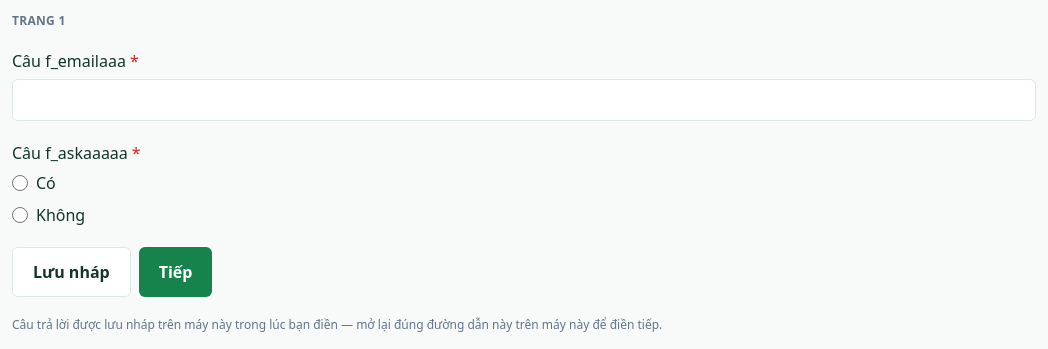
form công khai rẽ nhánh › Không → sang thẳng trang B; Quay lại về trang vừa đi; đổi sang Có → trang A
The image size is (1048, 349).
Type "an@gmail.com" into the field labelled "Câu f_emailaaa*" at (524, 100), box [12,79,1036,121]
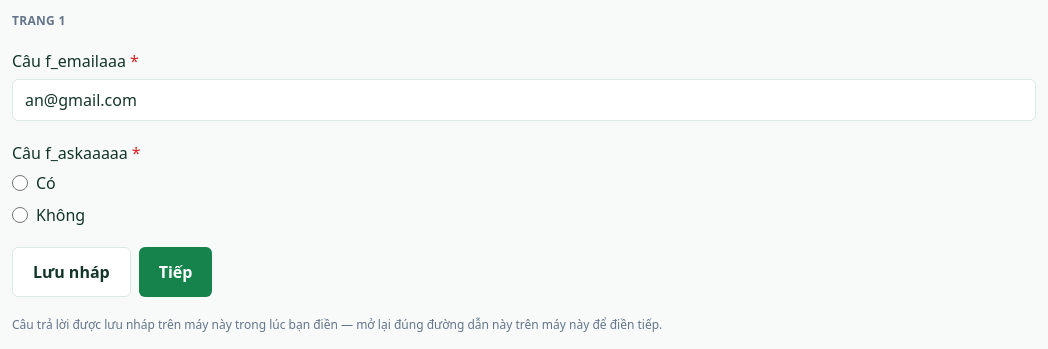
Click the radio button labelled "Không" at (20, 215), box [12,207,28,223]
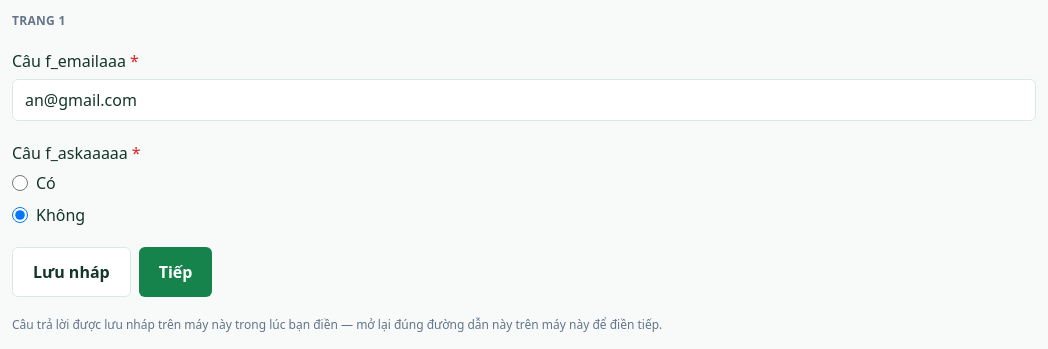
Click the button "Tiếp" at (176, 272), box [139,247,212,297]
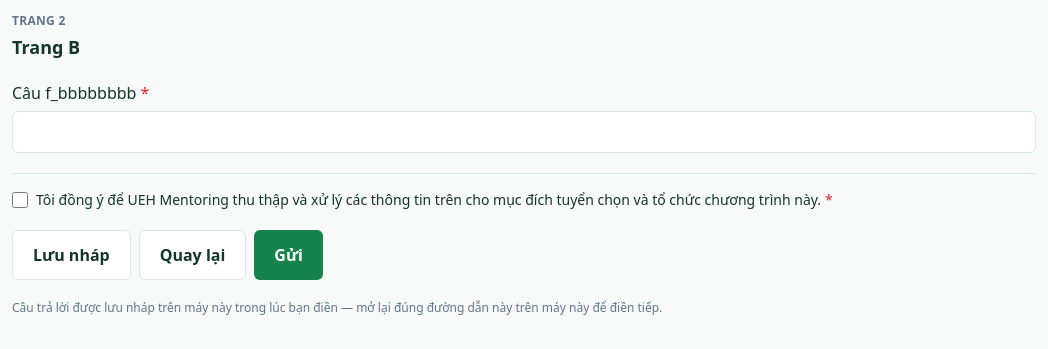
Check: the element showing "Câu f_bbbbbbbb*" is shown, box [12,81,1036,153]
Click the button "Quay lại" at (192, 255), box [139,230,246,280]
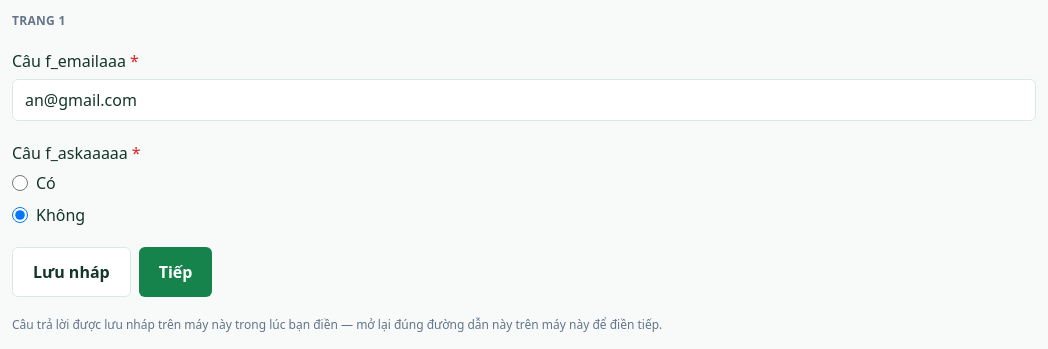
Click the radio button labelled "Có" at (20, 183), box [12,175,28,191]
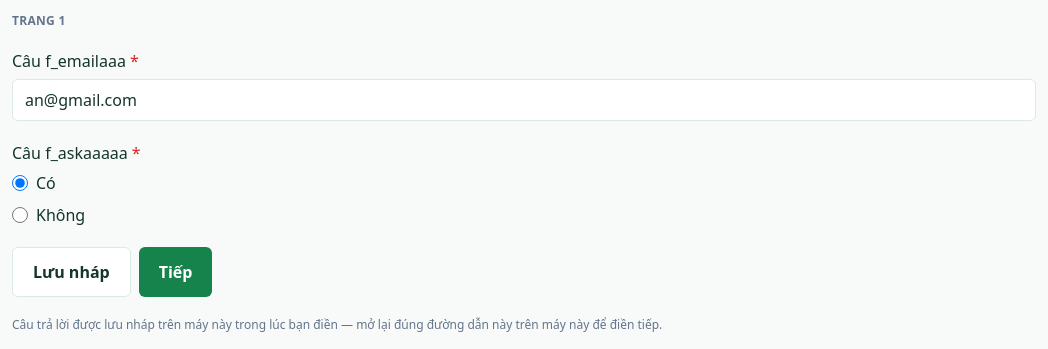
Click the button "Tiếp" at (176, 272), box [139,247,212,297]
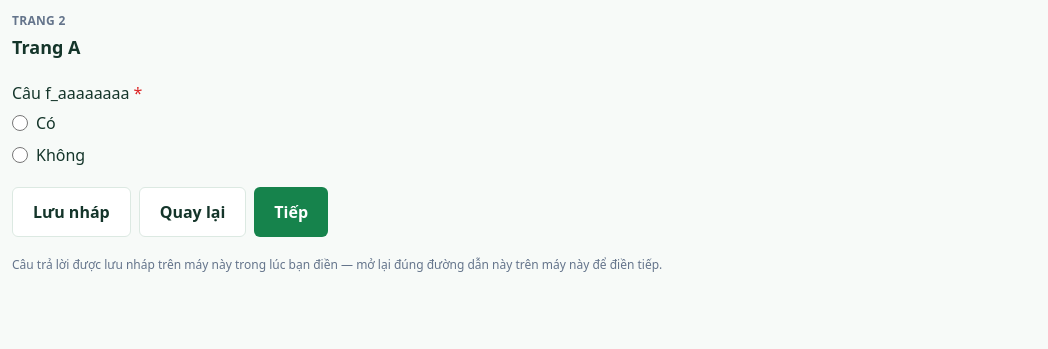
Check: the element showing "Câu f_aaaaaaaa* Có Không" is shown, box [12,82,142,166]
